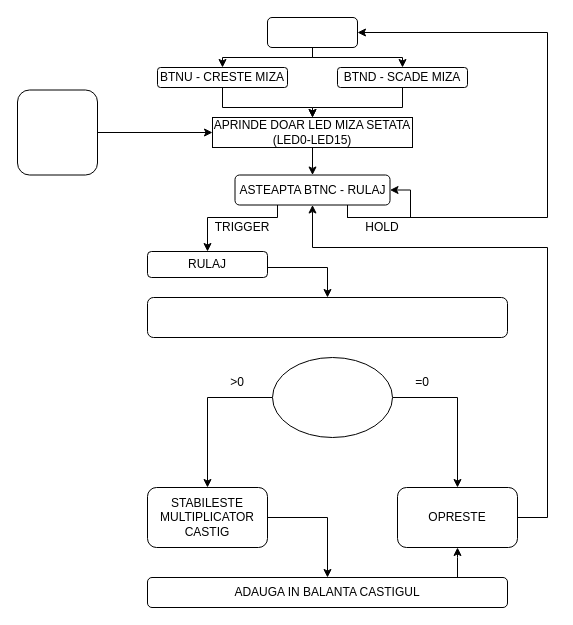
Image size: 573x625. Some labels were removed from this diagram. Each missing label, with the centre of its shape:
NUMARA COMBINATII CASTIGATOARE: the point at 332,397
RAND (1 DIN 5 SIMBOLURI) PT FIECARE CELULA (TOTAL 9 CELULE): the point at 327,317
SETEAZA MIZA: the point at 312,32
SW0->SW15 Seteaza miza presetata din switch: the point at 57,132
